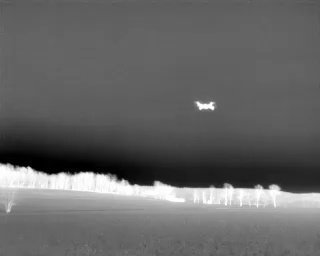DRONE: (191, 96, 220, 116)
